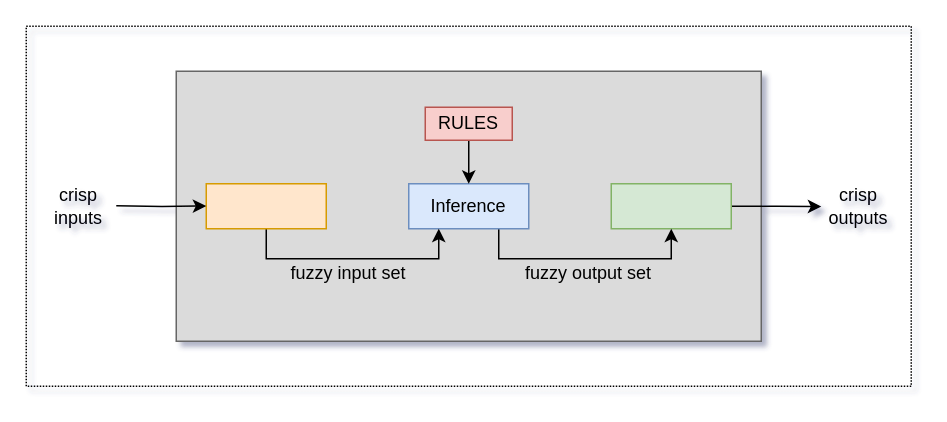
The diagram is 947 pixels wide and 422 high, and some of its shapes have lost their labels. The shapes that lost their labels are listed below. From the top down, each one's centre as x and y in pixels, then its label:
At (265,205): "Fuzzifier".
At (670,205): "Defuzzifier".
